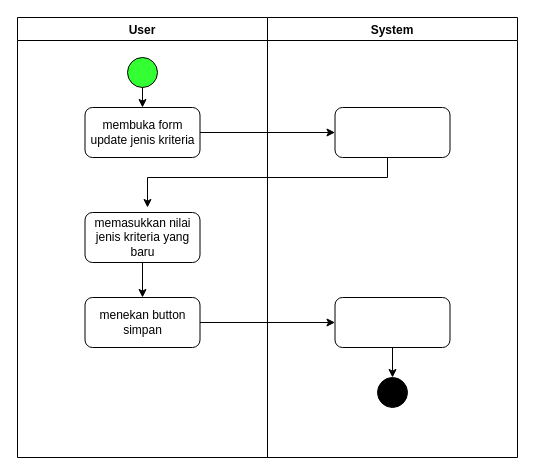
This 535x475 diagram has some shape labels left out. The centre of each missing label's shape, as x and y in pixels:
menampilkan form update jenis kriteria: (392,132)
menyimpan pada database: (392,322)
